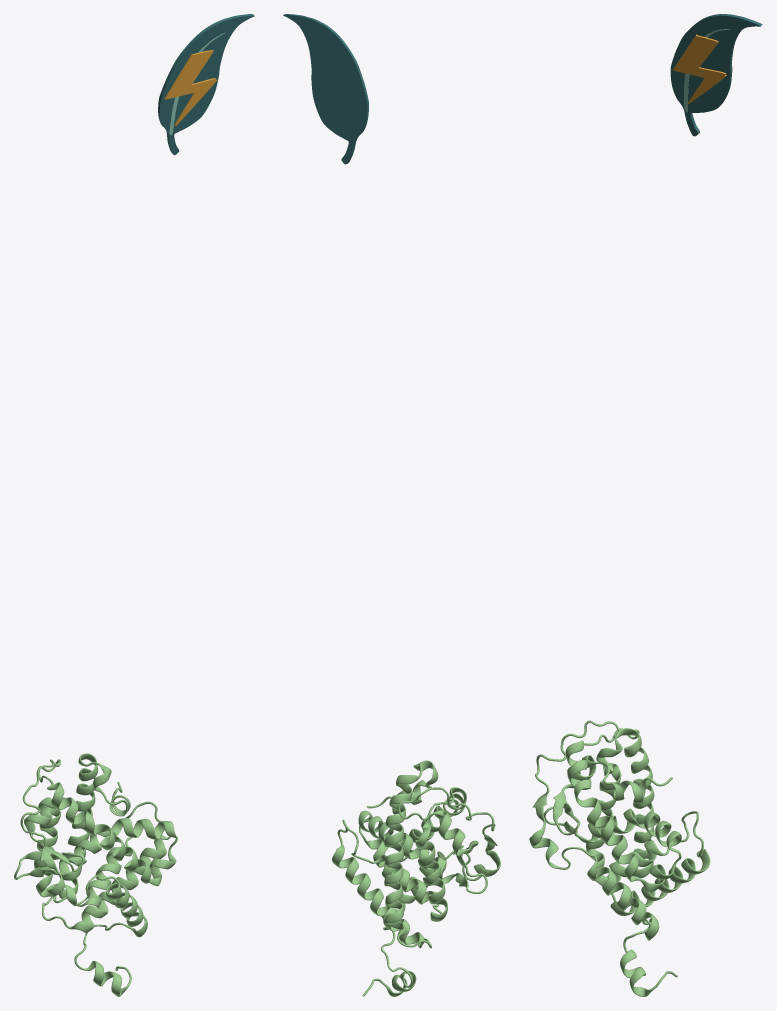
The model's file is prot_solv.glb.
The picture shows the model from 3 angles, left to right: view 1: azimuth 30°, elevation 25°; view 2: azimuth 150°, elevation 25°; view 3: azimuth 330°, elevation 25°; orthographic projection. The views are drawn at different scales.
Parts seen in each view (by area): view 1: solvprotein, path182, path186; view 2: solvprotein, path182; view 3: solvprotein, path182, path186.
Boxes of the visible parts, x1,y1,x2,y2 form: solvprotein: (14,753,177,996); path182: (158,14,254,155); path186: (164,50,216,126); solvprotein: (332,760,500,996); path182: (283,14,368,164); solvprotein: (529,720,710,996); path182: (670,14,762,136); path186: (673,34,726,104).
Bounding box in the file's own units: 1.47 × 6.04 × 0.6313.
